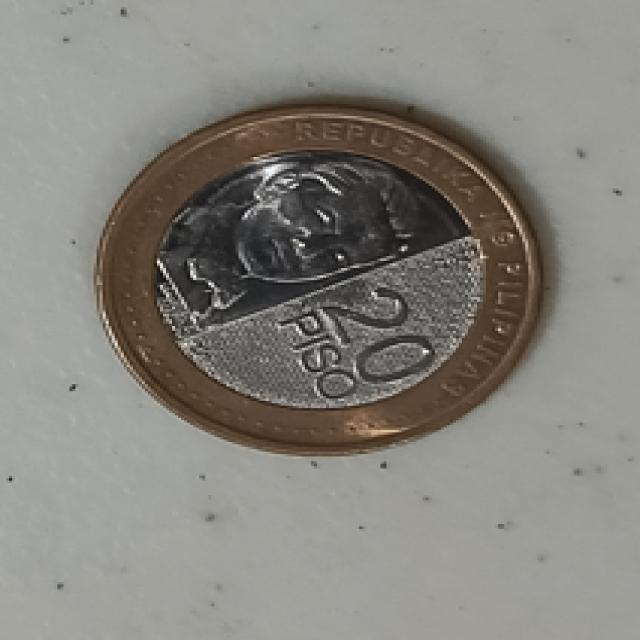20_peso: (100, 109, 537, 452)
